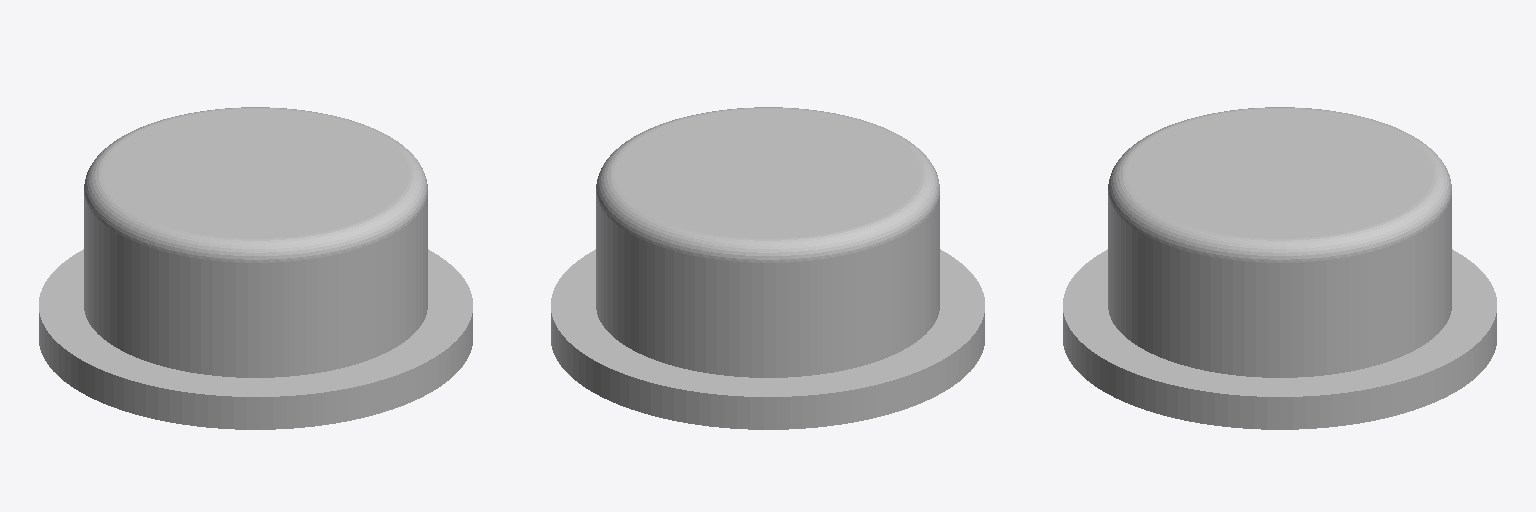
File: case_Button.obj
3 views of the same model, side by side, from view 1: azimuth 30°, elevation 25°; view 2: azimuth 150°, elevation 25°; view 3: azimuth 270°, elevation 25° (orthographic).
Parts seen in each view (by area): view 1: Solid1:3; view 2: Solid1:3; view 3: Solid1:3.
Part boxes in pixels (x1,y1,x2,y2): Solid1:3: (39,107,472,429); Solid1:3: (551,107,984,429); Solid1:3: (1063,107,1496,429).
Bounding box in the file's own units: 0.012 × 0.005 × 0.012.